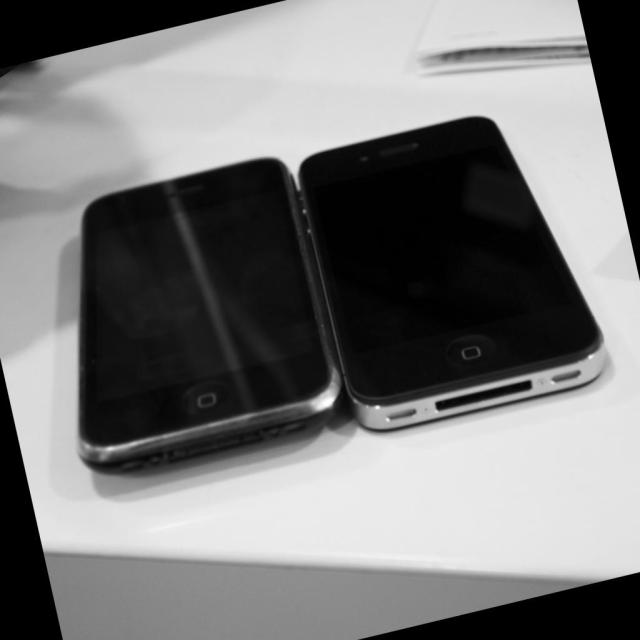handphone: (316, 122, 555, 440), (70, 153, 305, 476)
